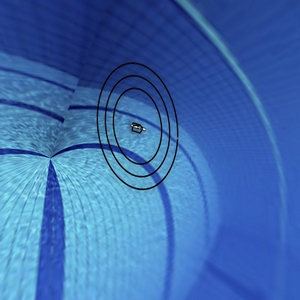circle: (79, 45, 191, 208)
submarine: (126, 117, 148, 140)
